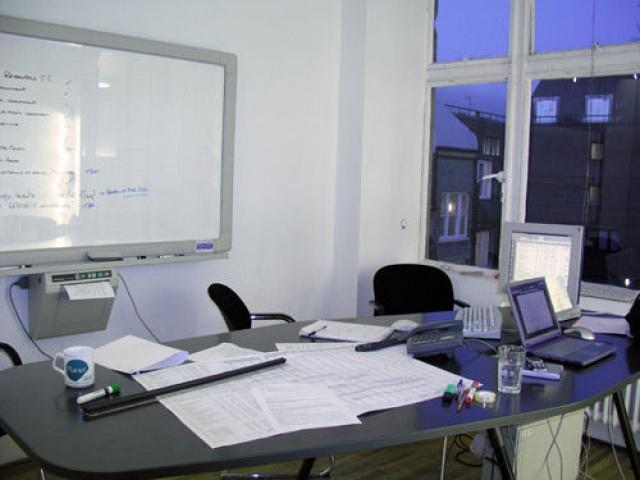Whiteboard: (0, 14, 238, 276)
